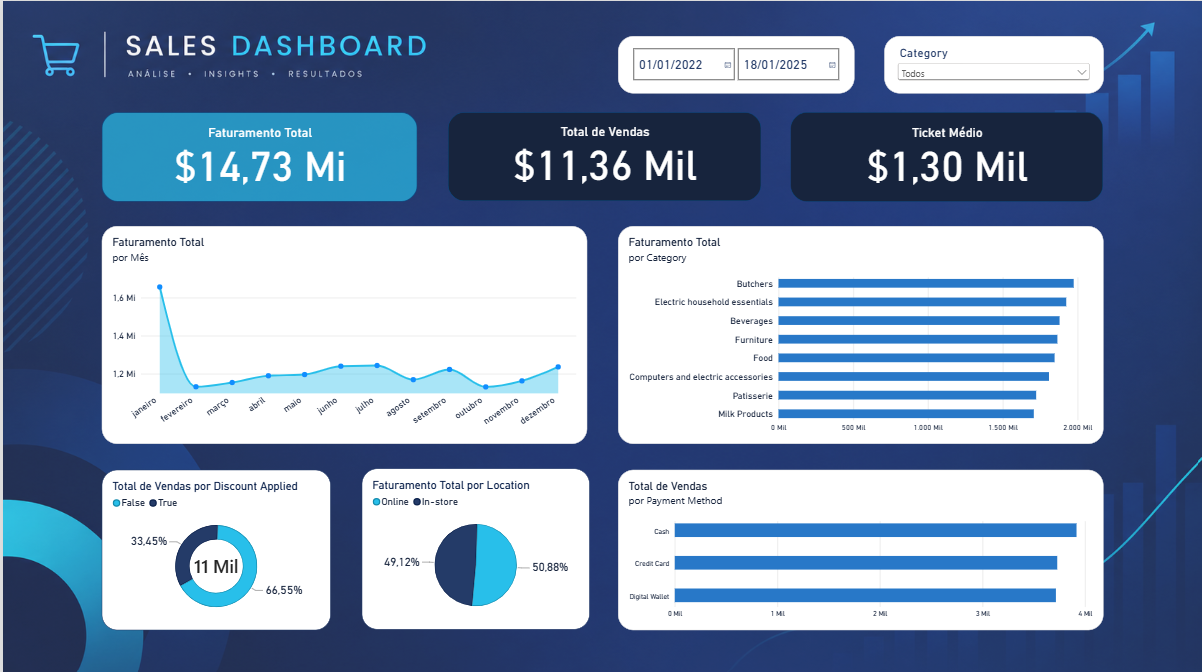

This screenshot's page, from the dashboard's own definition file:
{"tool":"powerbi","page":{"name":"Página 1","canvas":[1920,1080],"ordinal":0},"visuals":[{"type":"cardVisual","fields":{"Data":["retail_store_sales_limpo.Faturamento Total"]},"box":[158.8,178.4,505.9,143.1],"z":0},{"type":"cardVisual","fields":{"Data":["retail_store_sales_limpo.Total de Vendas"]},"box":[712.4,178.5,501.9,142.6],"z":1000},{"type":"cardVisual","fields":{"Data":["retail_store_sales_limpo.Ticket Médio"]},"box":[1260.8,178.4,500,143.1],"z":2000},{"type":"lineChart","fields":{"Category":["retail_store_sales_limpo.Transaction Date.Variação.Hierarquia de datas.Mês"],"Y":["retail_store_sales_limpo.Faturamento Total"]},"box":[158.8,360.8,776.5,349],"z":3000},{"type":"clusteredBarChart","fields":{"Category":["retail_store_sales_limpo.Category"],"Y":["retail_store_sales_limpo.Faturamento Total"]},"box":[984.3,360.8,776.5,349],"z":4000},{"type":"donutChart","fields":{"Category":["retail_store_sales_limpo.Discount Applied"],"Y":["retail_store_sales_limpo.Total de Vendas"]},"box":[158.8,749,366.7,256.9],"z":5000},{"type":"clusteredBarChart","fields":{"Category":["retail_store_sales_limpo.Payment Method"],"Y":["retail_store_sales_limpo.Total de Vendas"]},"box":[984.3,749,776.5,256.9],"z":6000},{"type":"pieChart","fields":{"Category":["retail_store_sales_limpo.Location"],"Y":["retail_store_sales_limpo.Faturamento Total"]},"box":[573.5,748.9,365,257.4],"z":7000},{"type":"slicer","fields":{"Values":["retail_store_sales_limpo.Transaction Date"]},"box":[984.3,56.9,378.4,92.2],"z":8000},{"type":"slicer","fields":{"Values":["retail_store_sales_limpo.Category"]},"box":[1409.8,56.9,351,92.2],"z":9000}]}

Visuals, with their boxes in screenshot pixels (x1, y1, x2, y2), scaled from the page's 1920x1080 canvas onto the 1202x672 screenshot:
cardVisual - retail_store_sales_limpo.Faturamento Total: (x1=99, y1=111, x2=416, y2=200)
cardVisual - retail_store_sales_limpo.Total de Vendas: (x1=446, y1=111, x2=760, y2=200)
cardVisual - retail_store_sales_limpo.Ticket Médio: (x1=789, y1=111, x2=1102, y2=200)
lineChart - retail_store_sales_limpo.Transaction Date.Variação.Hierarquia de datas.Mês x retail_store_sales_limpo.Faturamento Total: (x1=99, y1=224, x2=586, y2=442)
clusteredBarChart - retail_store_sales_limpo.Category x retail_store_sales_limpo.Faturamento Total: (x1=616, y1=224, x2=1102, y2=442)
donutChart - retail_store_sales_limpo.Discount Applied x retail_store_sales_limpo.Total de Vendas: (x1=99, y1=466, x2=329, y2=626)
clusteredBarChart - retail_store_sales_limpo.Payment Method x retail_store_sales_limpo.Total de Vendas: (x1=616, y1=466, x2=1102, y2=626)
pieChart - retail_store_sales_limpo.Location x retail_store_sales_limpo.Faturamento Total: (x1=359, y1=466, x2=588, y2=626)
slicer - retail_store_sales_limpo.Transaction Date: (x1=616, y1=35, x2=853, y2=93)
slicer - retail_store_sales_limpo.Category: (x1=883, y1=35, x2=1102, y2=93)
